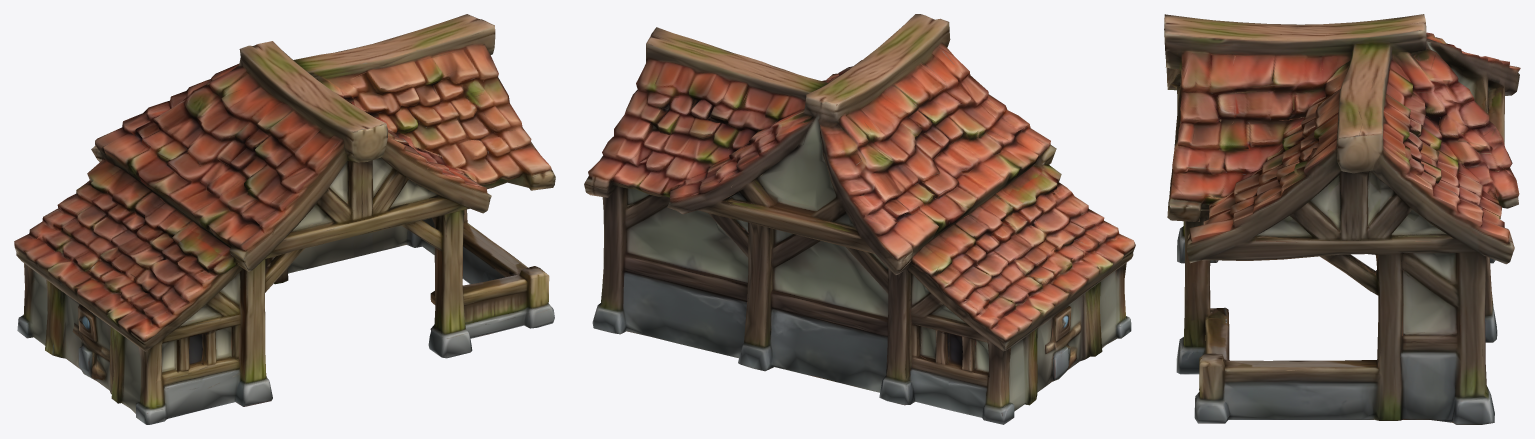
The model's file is forge_building.glb.
The picture shows the model from 3 angles, left to right: view 1: azimuth 30°, elevation 25°; view 2: azimuth 150°, elevation 25°; view 3: azimuth 270°, elevation 25°; orthographic projection. The views are drawn at different scales.
Visible parts, largest first — view 1: Mesh_0; view 2: Mesh_0; view 3: Mesh_0.
Boxes of the visible parts, x1,y1,x2,y2 form: Mesh_0: [14, 14, 555, 424]; Mesh_0: [584, 14, 1135, 424]; Mesh_0: [1164, 14, 1520, 424].
Bounding box in the file's own units: 13.77 × 8 × 8.86.
Materials: 1 (1 with a texture image).
